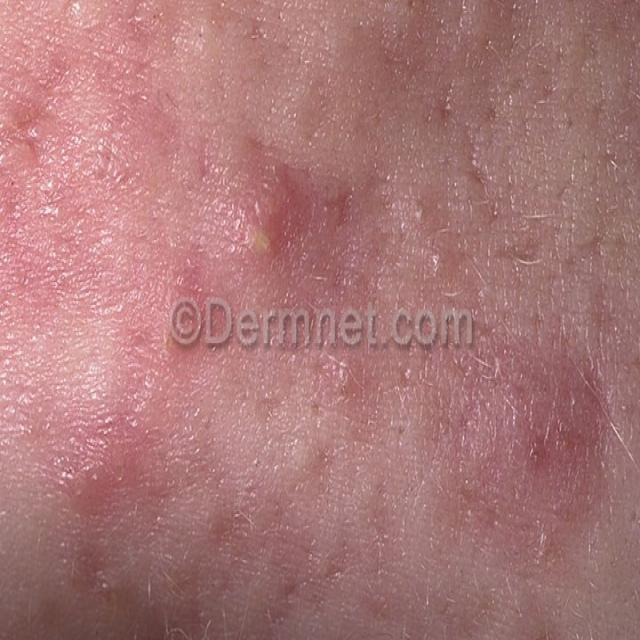Rosacea: (6, 10, 594, 610)
